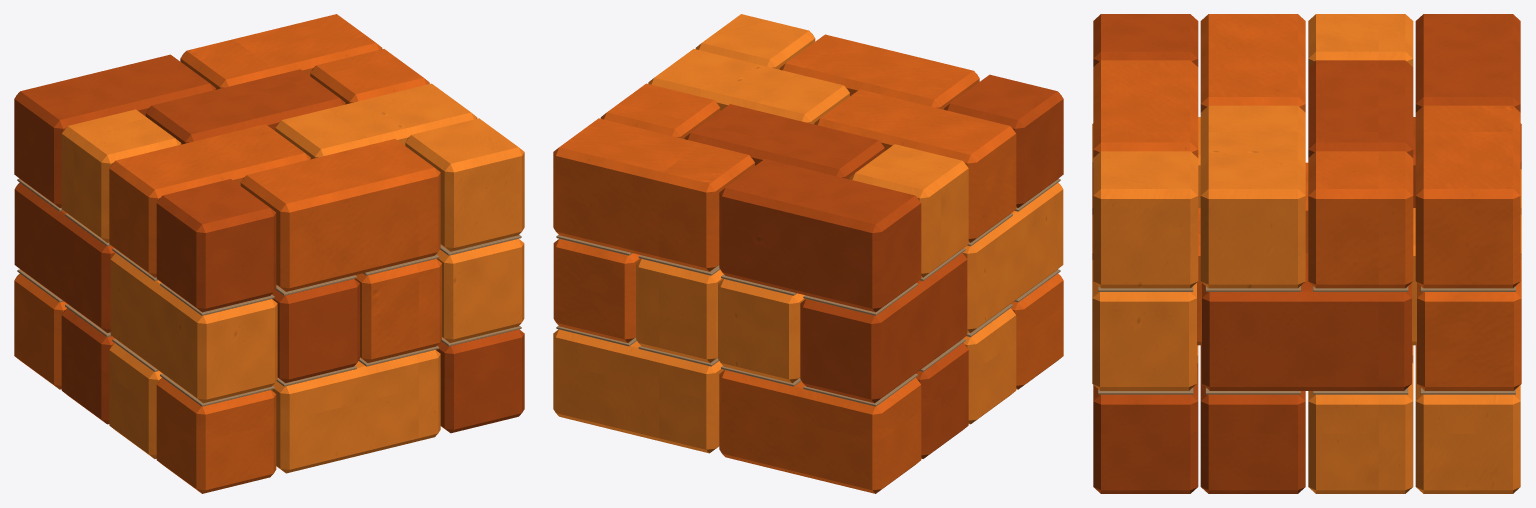
File: brick-block.glb
3 views of the same model, side by side, from view 1: azimuth 30°, elevation 25°; view 2: azimuth 150°, elevation 25°; view 3: azimuth 270°, elevation 25° (orthographic). The views are drawn at different scales.
Visible parts, largest first — view 1: Brick_003, Brick_006, Brick_002, Brick_012, Brick_001, Brick_009, Brick_015, Brick_039, Brick_004, Brick_027, Brick_010, Brick_005 (+19 smaller); view 2: Brick_039, Brick_045, Brick_037, Brick_038, Brick_048, Brick_042, Brick_015, Brick_043, Brick_027, Brick_003, Brick_041, Brick_047 (+19 smaller); view 3: Brick_024, Brick_048, Brick_036, Brick_012, Brick_046, Brick_010, Brick_022, Brick_034, Brick_023, Brick_035, Brick_011, Brick_047 (+13 smaller).
Part boxes in pixels (x1,y1,x2,y2): Brick_003: (156,179,276,312); Brick_006: (240,157,363,291); Brick_002: (153,282,277,403); Brick_012: (405,118,524,251); Brick_001: (156,377,276,493); Brick_009: (321,139,440,273); Brick_015: (109,142,234,277); Brick_039: (14,73,139,207); Brick_004: (271,364,363,473); Brick_027: (61,109,181,242); Brick_010: (436,329,524,433); Brick_005: (272,279,359,383); Brick_039: (796,177,921,312); Brick_045: (632,137,754,271); Brick_037: (796,377,921,493); Brick_038: (800,282,924,403); Brick_048: (553,118,674,253); Brick_042: (719,159,838,293); Brick_015: (891,107,1016,242); Brick_043: (632,344,723,453); Brick_027: (849,144,968,277); Brick_003: (944,74,1063,207); Brick_041: (718,279,805,383); Brick_047: (553,238,640,342); Brick_024: (1200,147,1305,288); Brick_048: (1415,147,1520,288); Brick_036: (1308,151,1413,288); Brick_012: (1093,151,1198,288); Brick_046: (1415,358,1520,493); Brick_010: (1093,363,1198,493); Brick_022: (1200,358,1305,493); Brick_034: (1308,363,1413,493); Brick_023: (1202,253,1306,390); Brick_035: (1307,253,1411,390); Brick_011: (1092,260,1196,390); Brick_047: (1417,260,1521,390).
Size of the model in its own units: 0.998 by 0.7829 by 0.998.
Materials: 4 (3 with a texture image).
